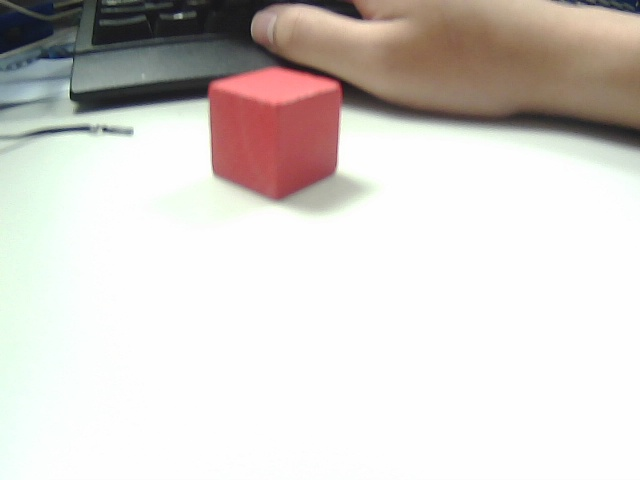redbox: (196, 58, 349, 209)
